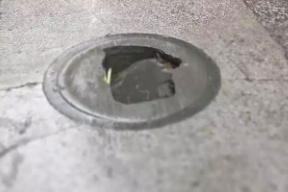wellcover: (32, 29, 246, 137)
